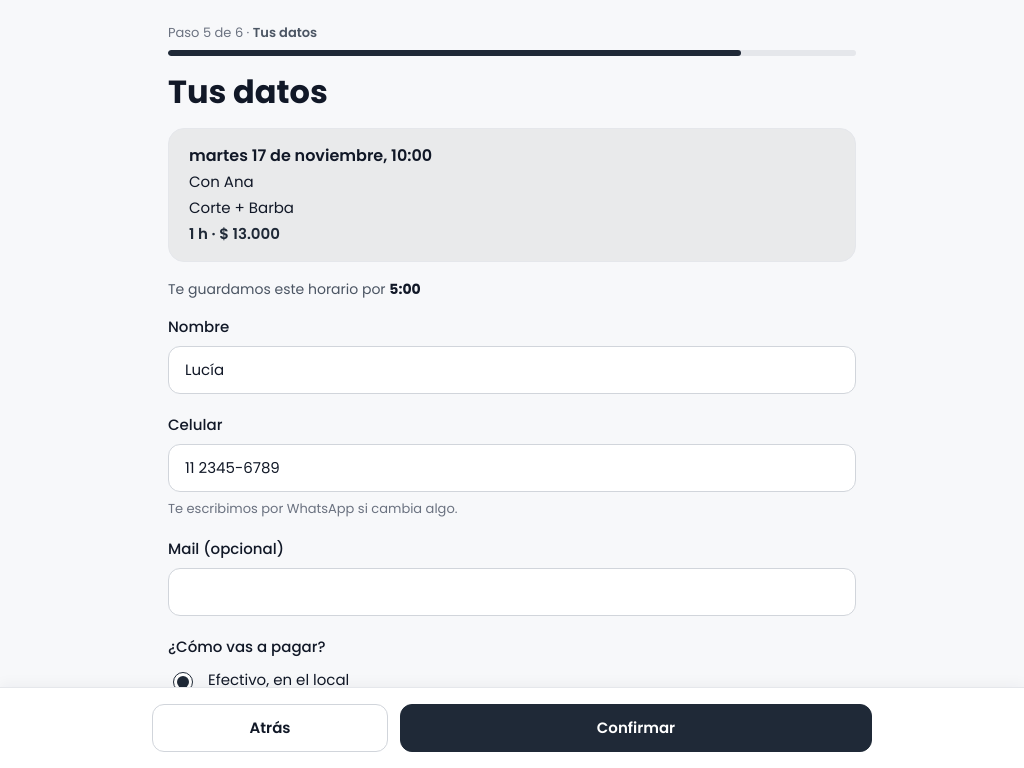
Paso 5: tus datos › HU-11 CA2: si la API dice que venció, avisa igual
Click the button "Confirmar". click: (636, 728)
box: x1=400 y1=704 x2=872 y2=752
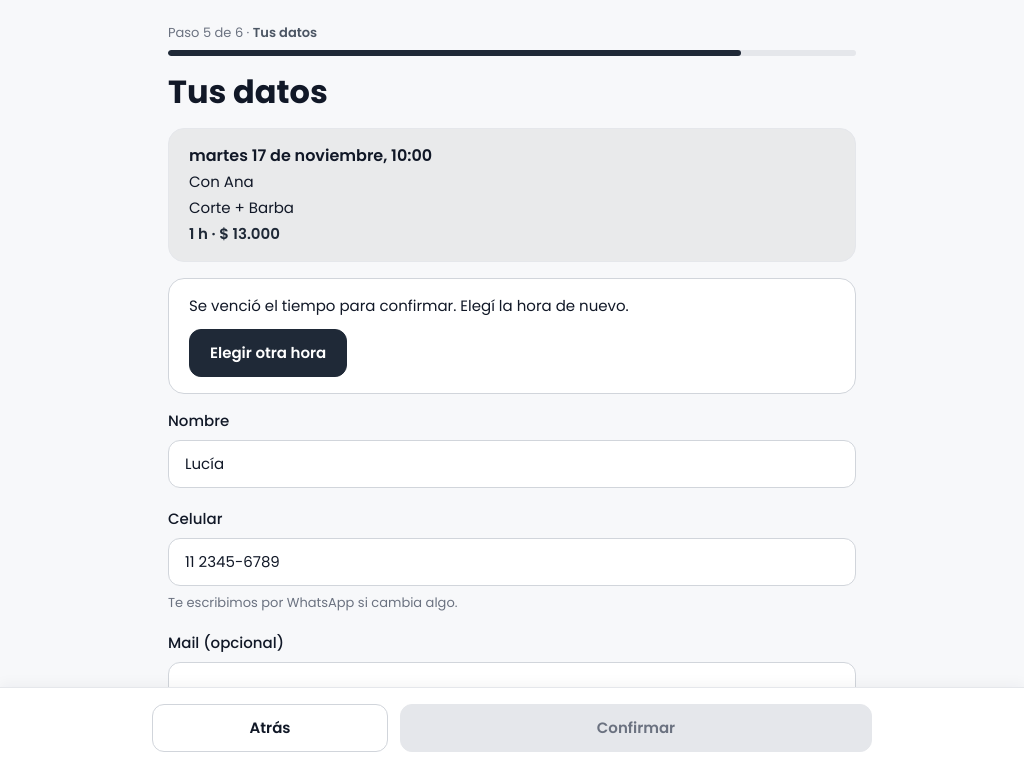
Check: the message shows "Se venció el tiempo para confirmar.", box x1=189 y1=295 x2=629 y2=316
